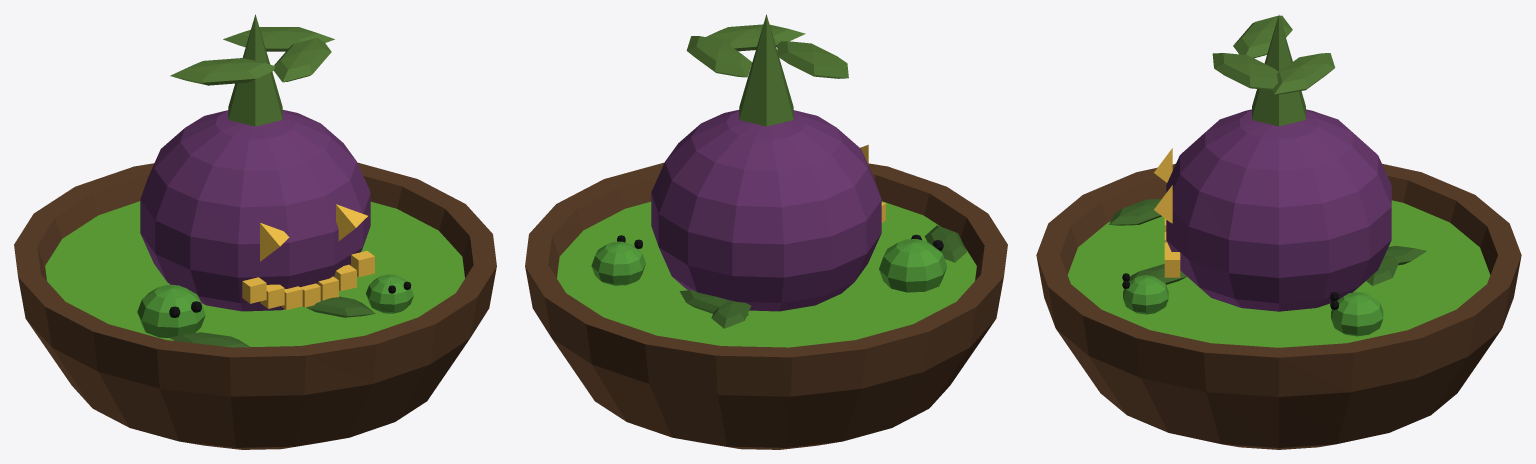
The model's file is VFP_TurnipGhostSoup.obj.
3 renders of one model, left to right at view 1: azimuth 30°, elevation 25°; view 2: azimuth 150°, elevation 25°; view 3: azimuth 270°, elevation 25°, orthographic.
Parts seen in each view (by area): view 1: Bowl, Turnip, Broth, Turnip_turnip_top, Face, Slimes, Leaves; view 2: Bowl, Turnip, Broth, Turnip_turnip_top, Slimes, Leaves; view 3: Bowl, Turnip, Broth, Turnip_turnip_top, Slimes, Leaves, Face.
Boxes of the visible parts, box(x1,y1,x2,y2) form: Bowl: box(14, 162, 496, 449); Turnip: box(140, 110, 370, 311); Broth: box(45, 201, 464, 346); Turnip_turnip_top: box(170, 14, 334, 126); Face: box(242, 204, 374, 310); Slimes: box(137, 274, 413, 337); Leaves: box(170, 296, 375, 347); Bowl: box(525, 162, 1007, 449); Turnip: box(651, 110, 881, 311); Broth: box(557, 201, 976, 347); Turnip_turnip_top: box(686, 14, 848, 126); Slimes: box(591, 239, 947, 292); Leaves: box(679, 225, 966, 328); Bowl: box(1036, 163, 1521, 449); Turnip: box(1166, 109, 1391, 311); Broth: box(1067, 200, 1490, 347); Turnip_turnip_top: box(1212, 15, 1335, 126); Slimes: box(1123, 275, 1383, 336); Leaves: box(1109, 199, 1426, 285); Face: box(1154, 148, 1180, 277).
Bounding box in the file's own units: 0.31 × 0.27 × 0.31.
